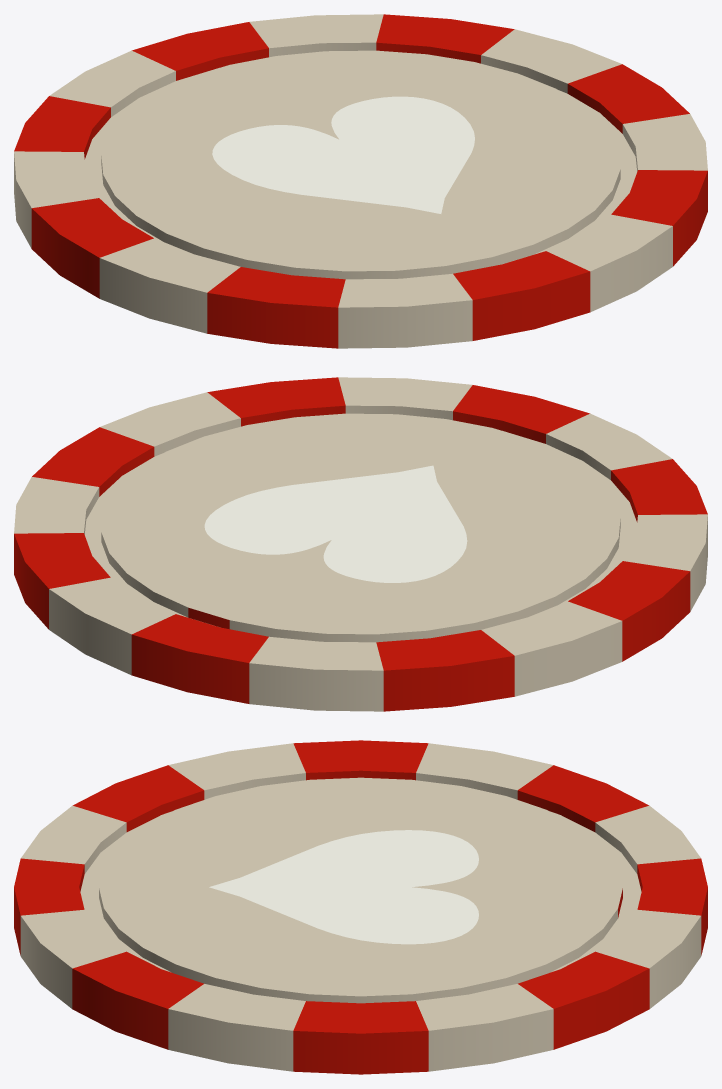
The model's file is red_chips.fbx.
3 views of the same model, one above another, from view 1: azimuth 30°, elevation 25°; view 2: azimuth 150°, elevation 25°; view 3: azimuth 270°, elevation 25° (orthographic).
Parts seen in each view (by area): view 1: red1, red3; view 2: red1, red3; view 3: red1, red3.
Part boxes in pixels (x1=…): red1: x1=14, y1=14, x2=707, y2=348; red3: x1=212, y1=96, x2=474, y2=213; red1: x1=14, y1=377, x2=707, y2=711; red3: x1=204, y1=465, x2=467, y2=582; red1: x1=14, y1=740, x2=707, y2=1074; red3: x1=209, y1=830, x2=478, y2=944.
Size of the model in its own units: 21.21 by 1.44 by 21.21.
